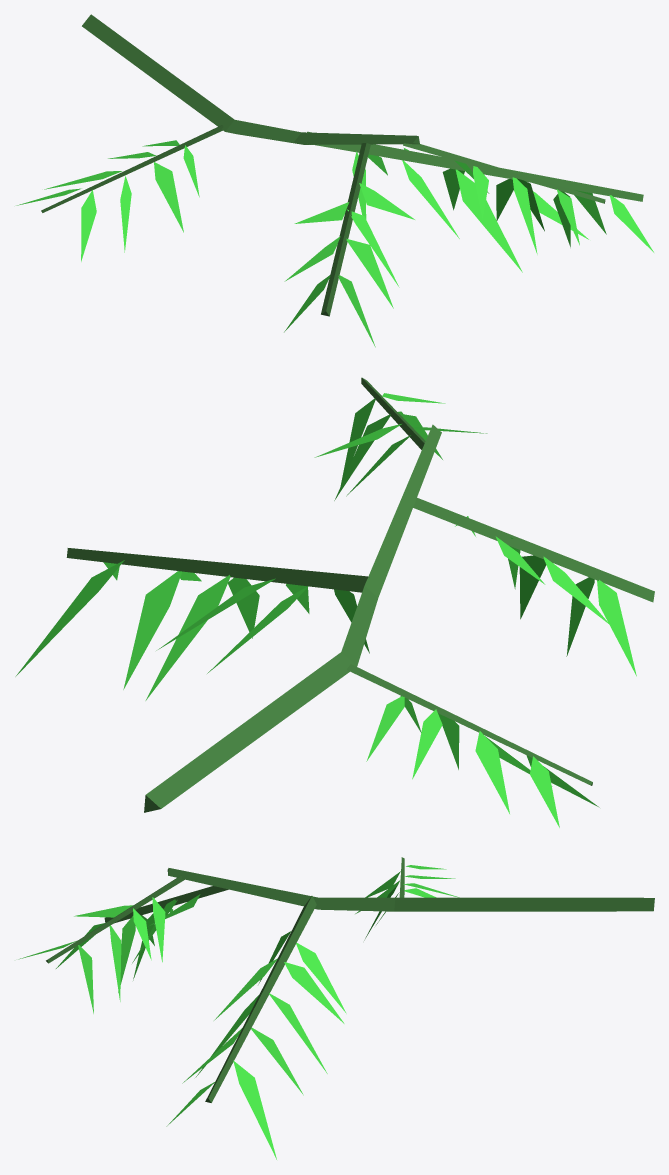
Rendered from BambooBranch4.fbx.
The picture shows the model from 3 angles, top to bottom: view 1: azimuth 30°, elevation 25°; view 2: azimuth 150°, elevation 25°; view 3: azimuth 270°, elevation 25°; orthographic projection. The views are drawn at different scales.
Visible parts, largest first — view 1: Branch4; view 2: Branch4; view 3: Branch4.
Boxes of the visible parts, left/top/right/bottom form: Branch4: left=16, top=14, right=653, bottom=347; Branch4: left=15, top=377, right=654, bottom=827; Branch4: left=18, top=857, right=654, bottom=1159.
Size of the model in its own units: 44.79 by 17.55 by 55.42.
